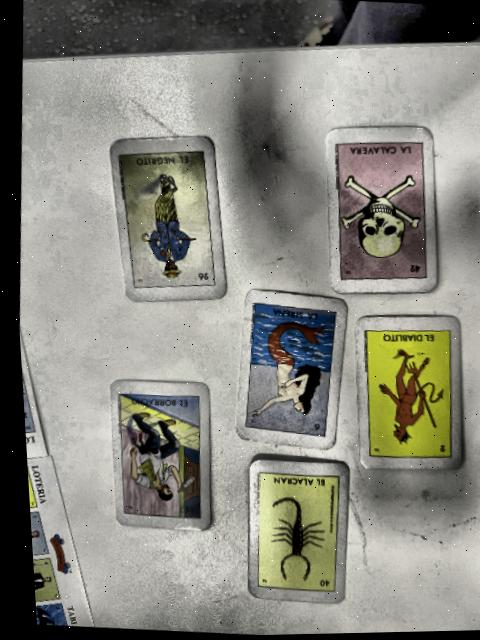El Alacran: (250, 472, 330, 592)
El Borracho: (115, 394, 191, 517)
El Diablito: (361, 331, 443, 457)
El Negrito: (118, 151, 209, 287)
La Calavera: (334, 144, 420, 278)
La Sirena: (240, 304, 328, 435)
